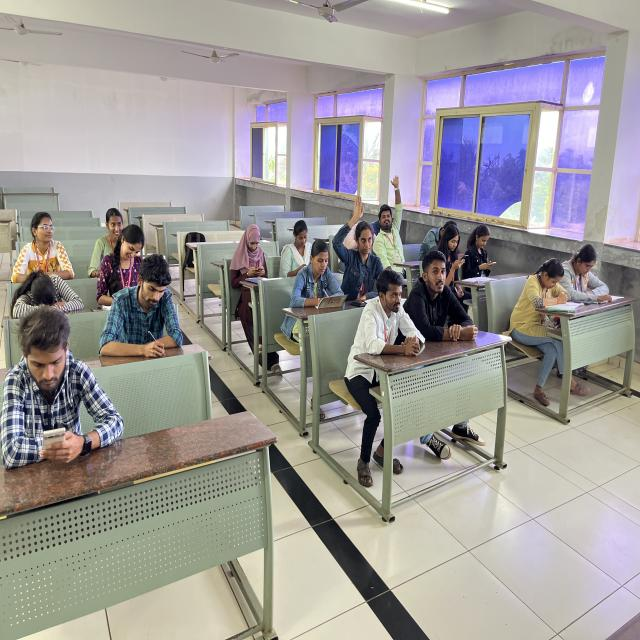Hand Rising: (335, 193, 389, 297), (374, 171, 414, 271)
Reading: (513, 254, 579, 332), (557, 243, 616, 310)
Sleeping: (7, 268, 87, 320)
Using Phone: (2, 310, 120, 468), (230, 220, 272, 305), (433, 222, 473, 291), (279, 217, 317, 280), (465, 220, 497, 281)
Writing: (104, 251, 189, 365), (290, 237, 349, 317), (96, 220, 147, 301)
